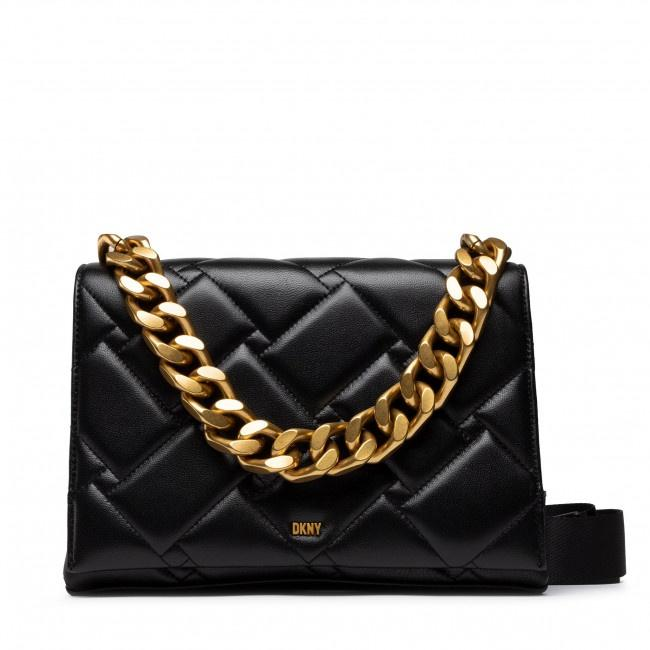DKNY: (293, 522, 322, 535)
